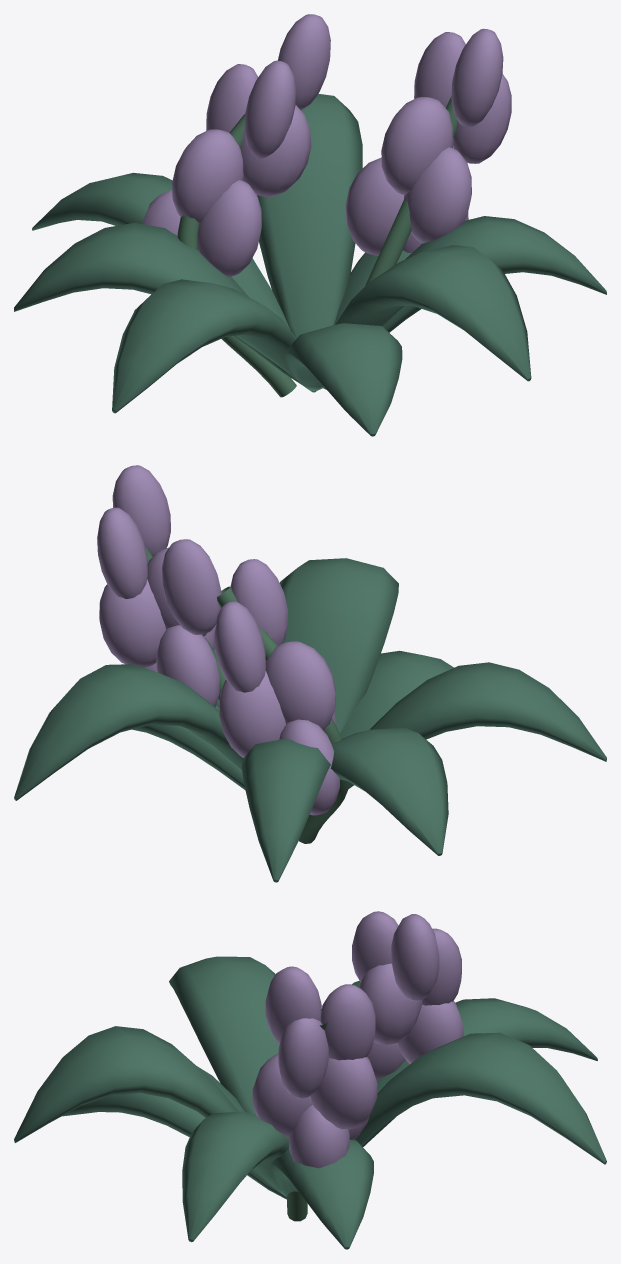
3 renders of one model, top to bottom at view 1: azimuth 30°, elevation 25°; view 2: azimuth 150°, elevation 25°; view 3: azimuth 270°, elevation 25°, orthographic. The views are drawn at different scales.
Visible parts, largest first — view 1: Lavender_low; view 2: Lavender_low; view 3: Lavender_low.
Part boxes in pixels (left/top/right/bottom): Lavender_low: left=14, top=14, right=606, bottom=436; Lavender_low: left=14, top=465, right=606, bottom=882; Lavender_low: left=14, top=911, right=606, bottom=1249.
Size of the model in its own units: 0.7819 by 0.4931 by 0.8153.
Materials: 1 (1 with a texture image).
